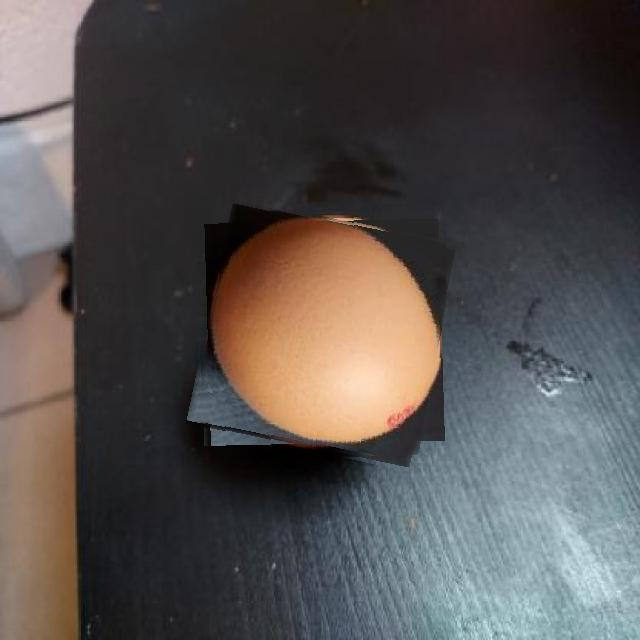biodegradable: (196, 211, 446, 460)
